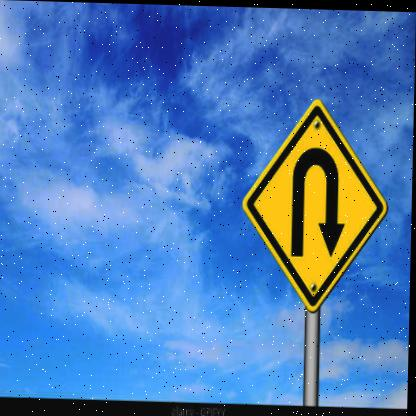U-turn: (237, 96, 390, 316)
